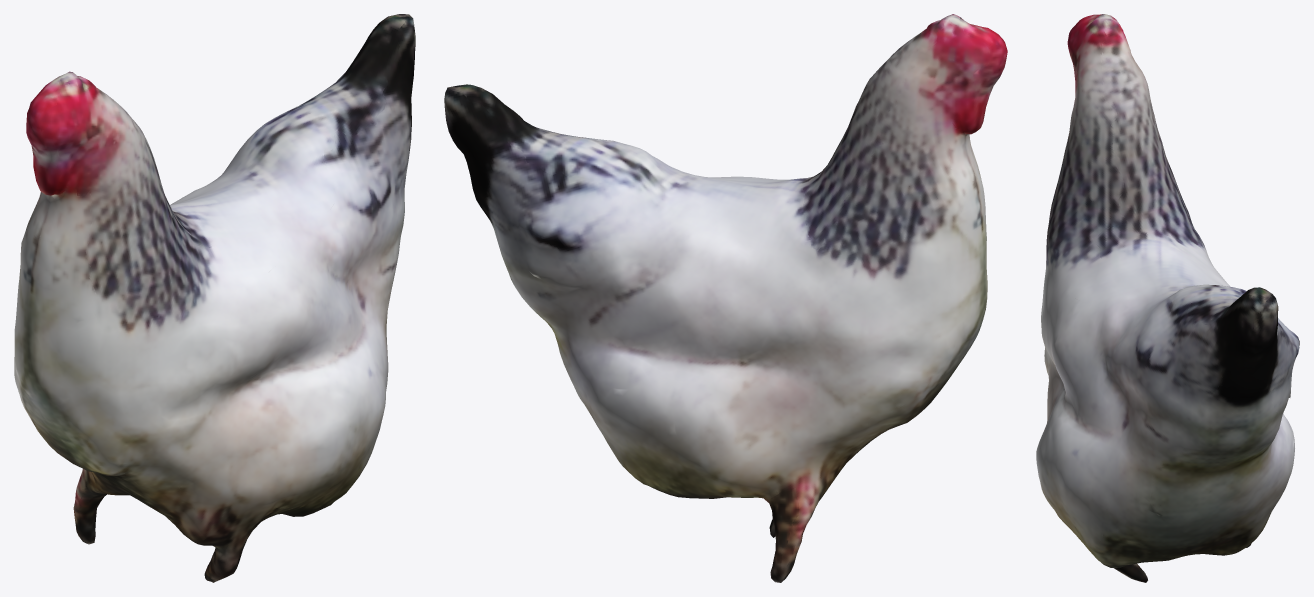
Rendered from adulto.glb.
3 renders of one model, left to right at view 1: azimuth 30°, elevation 25°; view 2: azimuth 150°, elevation 25°; view 3: azimuth 270°, elevation 25°, orthographic. The views are drawn at different scales.
Parts seen in each view (by area): view 1: mesh; view 2: mesh; view 3: mesh.
Boxes of the visible parts, x1,y1,x2,y2 form: mesh: (14, 14, 415, 582); mesh: (444, 14, 1007, 582); mesh: (1036, 14, 1299, 582).
Bounding box in the file's own units: 1.37 × 1.54 × 0.7392.
1 material, 1 textured.
